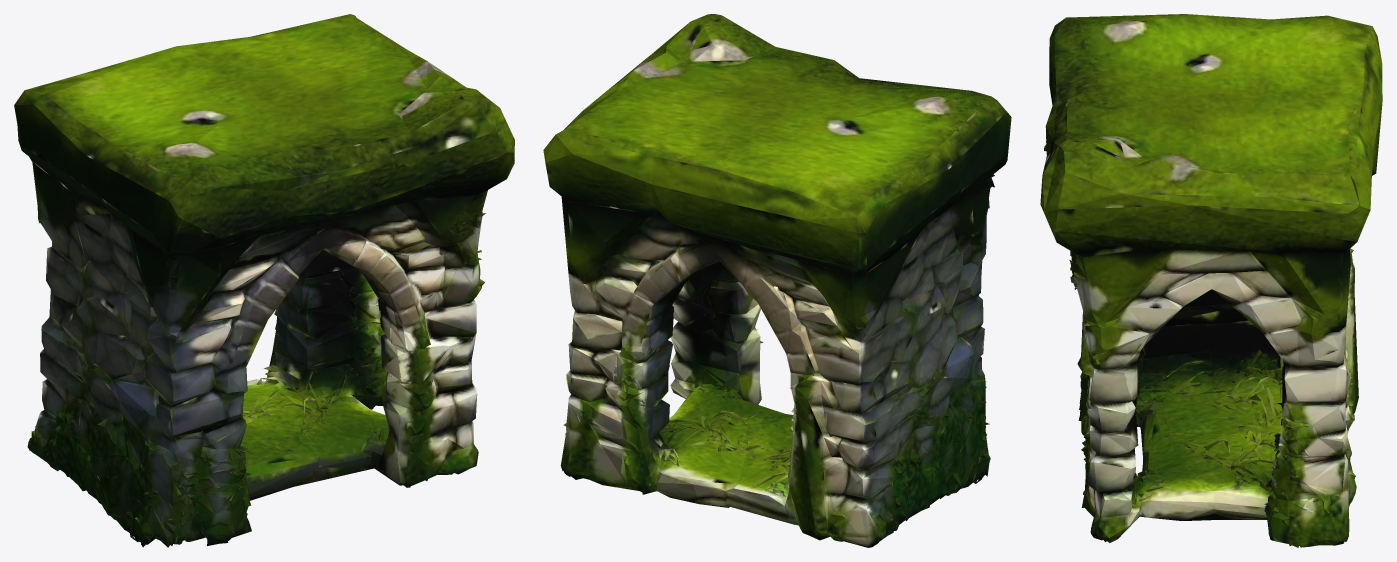
File: nature_rock_small_02.glb
The picture shows the model from 3 angles, left to right: view 1: azimuth 30°, elevation 25°; view 2: azimuth 150°, elevation 25°; view 3: azimuth 270°, elevation 25°; orthographic projection. The views are drawn at different scales.
Visible parts, largest first — view 1: geometry_0; view 2: geometry_0; view 3: geometry_0.
Boxes of the visible parts, x1,y1,x2,y2 form: geometry_0: (14, 14, 514, 547); geometry_0: (543, 14, 1011, 547); geometry_0: (1040, 14, 1382, 547).
Size of the model in its own units: 0.952 by 0.9969 by 0.7813.
Materials: 1 (1 with a texture image).
